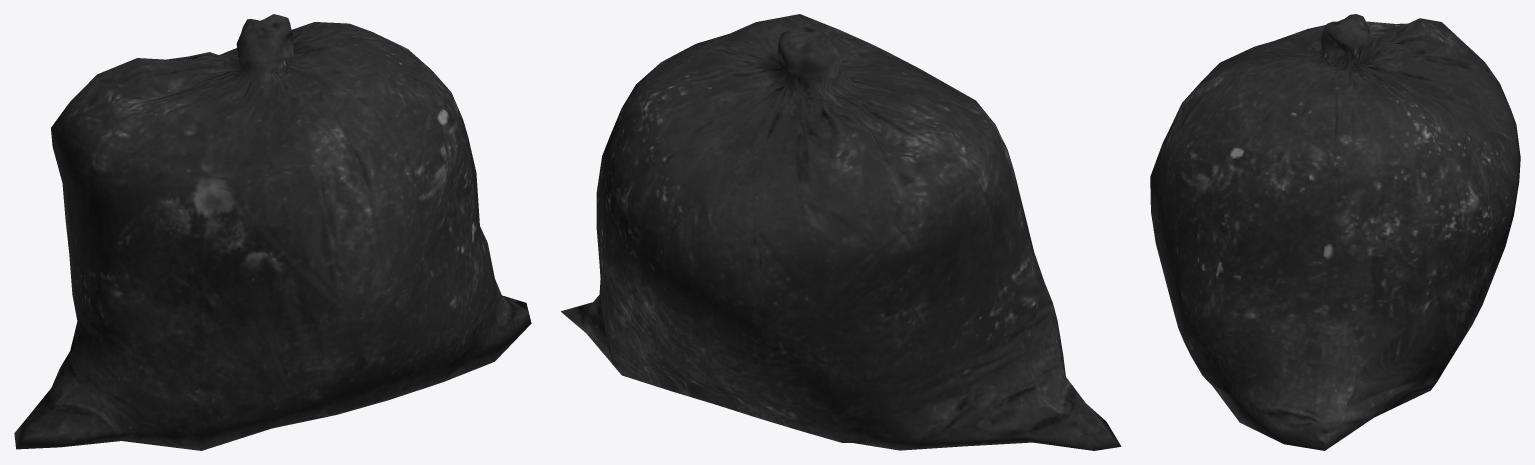
Rendered from trash_bag_1.fbx.
3 views of the same model, side by side, from view 1: azimuth 30°, elevation 25°; view 2: azimuth 150°, elevation 25°; view 3: azimuth 270°, elevation 25° (orthographic). The views are drawn at different scales.
Visible parts, largest first — view 1: trash_bag_1; view 2: trash_bag_1; view 3: trash_bag_1.
Boxes of the visible parts, x1=… form: trash_bag_1: x1=14, y1=14, x2=531, y2=450; trash_bag_1: x1=561, y1=14, x2=1121, y2=450; trash_bag_1: x1=1150, y1=14, x2=1520, y2=450.
Bounding box in the file's own units: 103 × 64.92 × 66.45.
